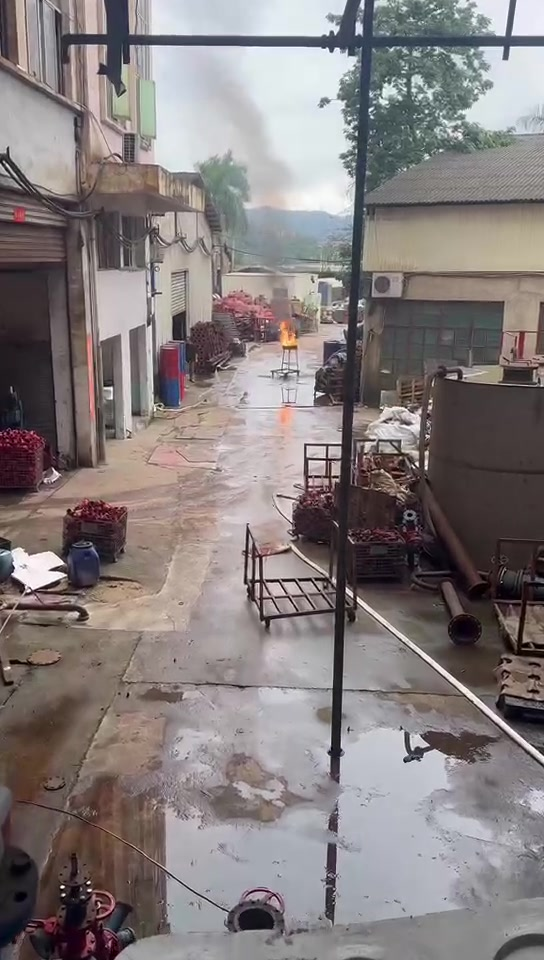fire: (279, 320, 297, 345)
